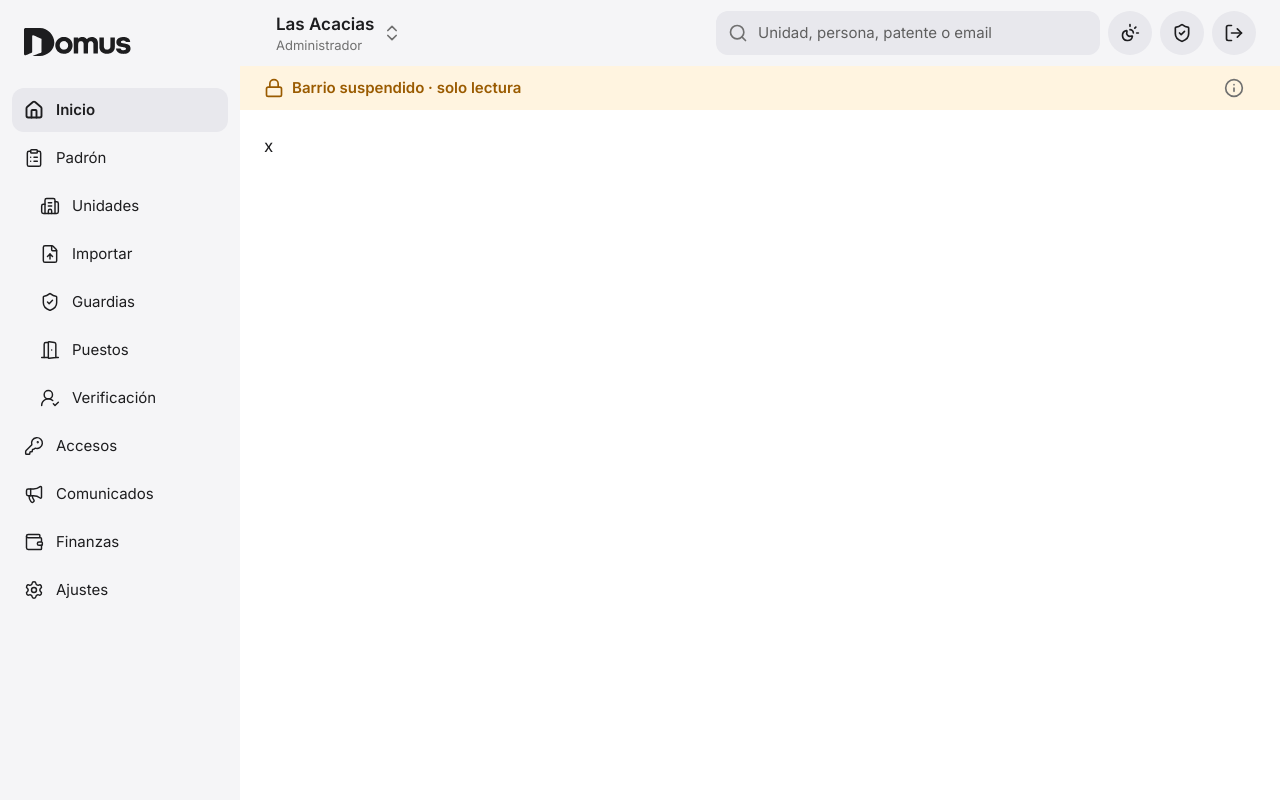
suspended tenant banner (M01-F02) › shows a compact persistent notice with the details behind an info button
The image size is (1280, 800).
Expected: the message reads "Barrio suspendido · solo lectura", [292,78,521,97]
Click the button named "Más información sobre el barrio suspendido": (1234, 88) [1212,66,1256,110]
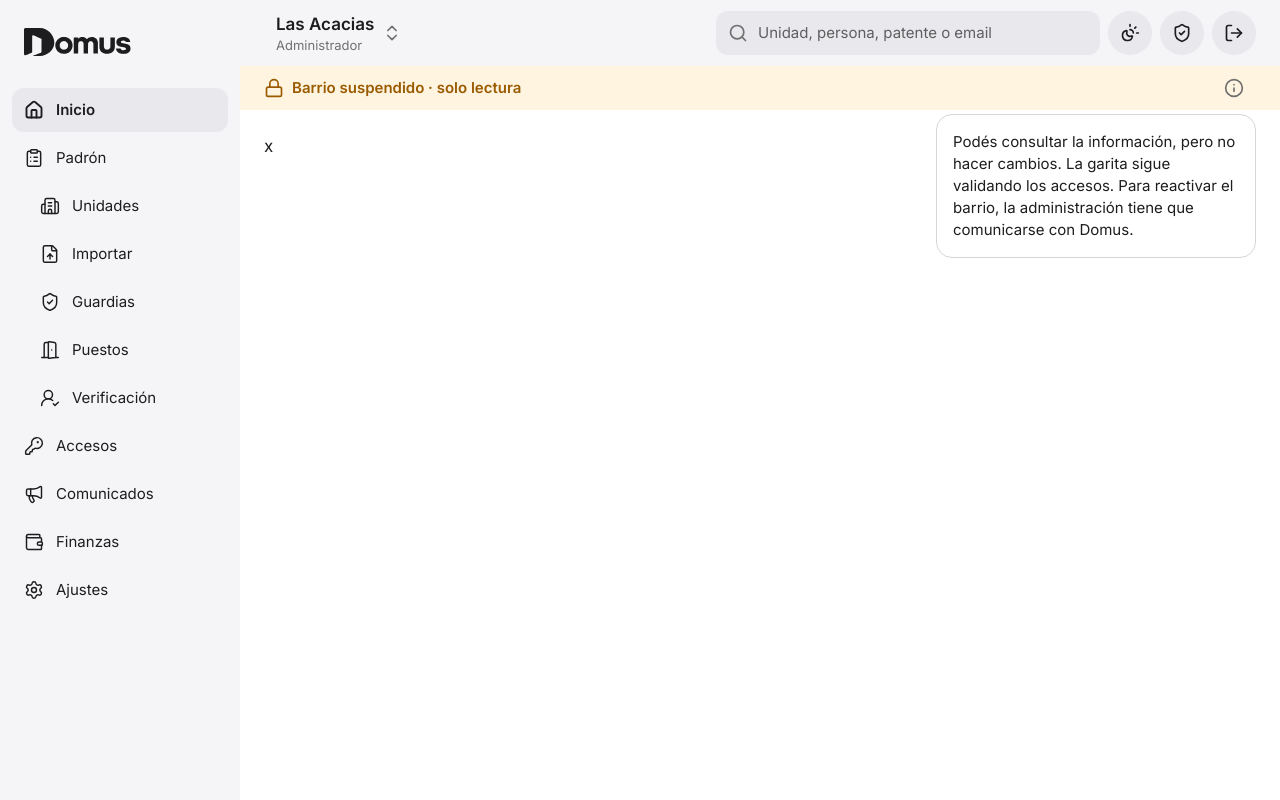
Expected: the message shows "La garita sigue validando los accesos", [953,132,1235,239]
